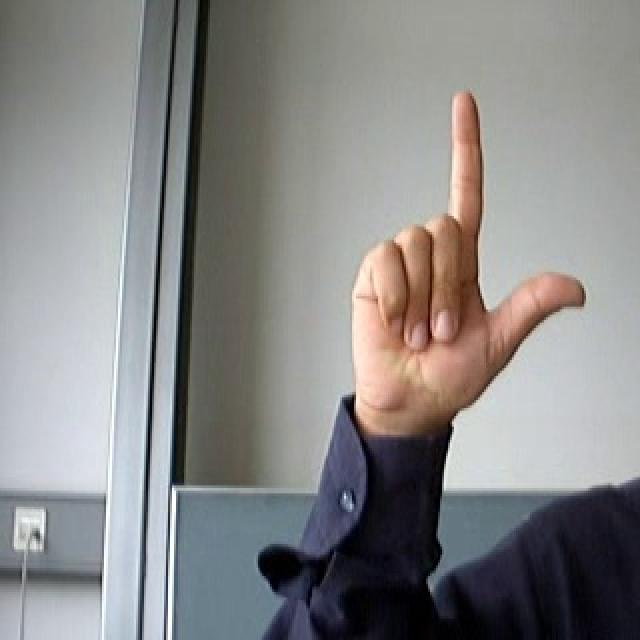L: (349, 79, 590, 410)
